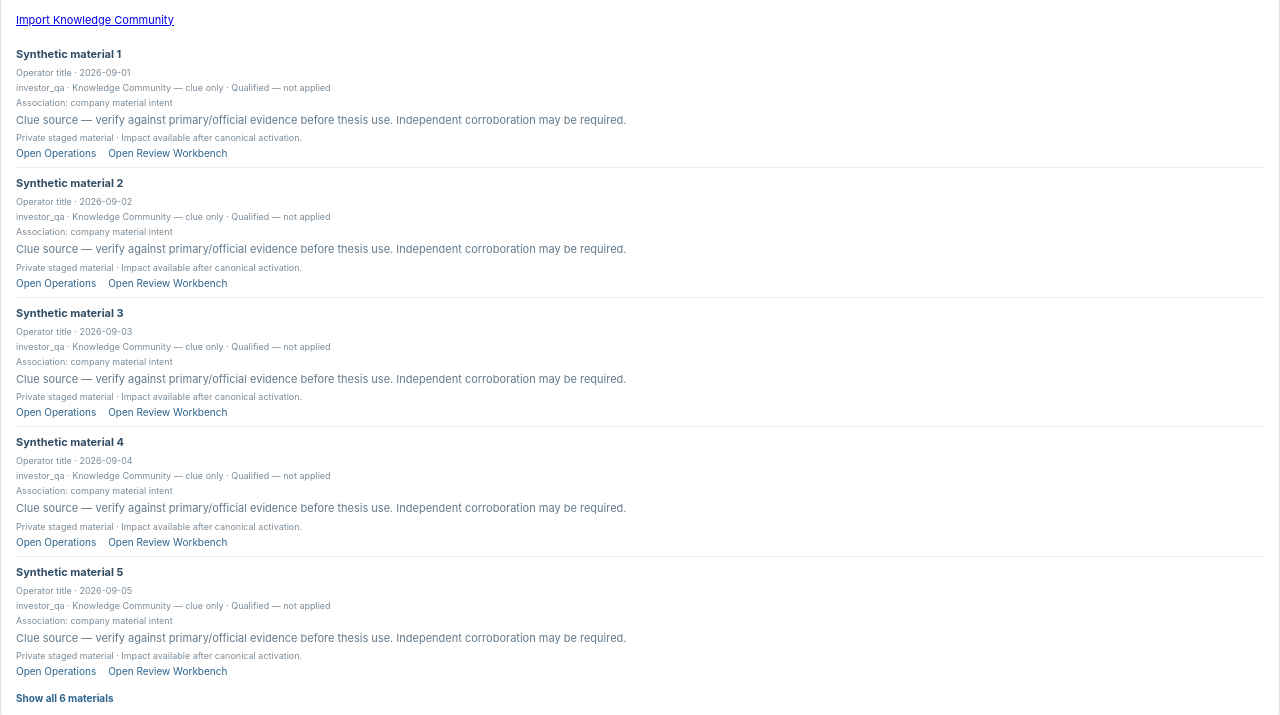
Test: Company Materials panel › shows five latest materials then expands, with private trust and review links
(page scrolled)
Expected: the text "Synthetic material 1" is shown, x1=16 y1=47 x2=121 y2=61
Expected: the text "Synthetic material 6" is not shown
Click the button "Show all 6 materials": (65, 698) x1=16 y1=692 x2=114 y2=704
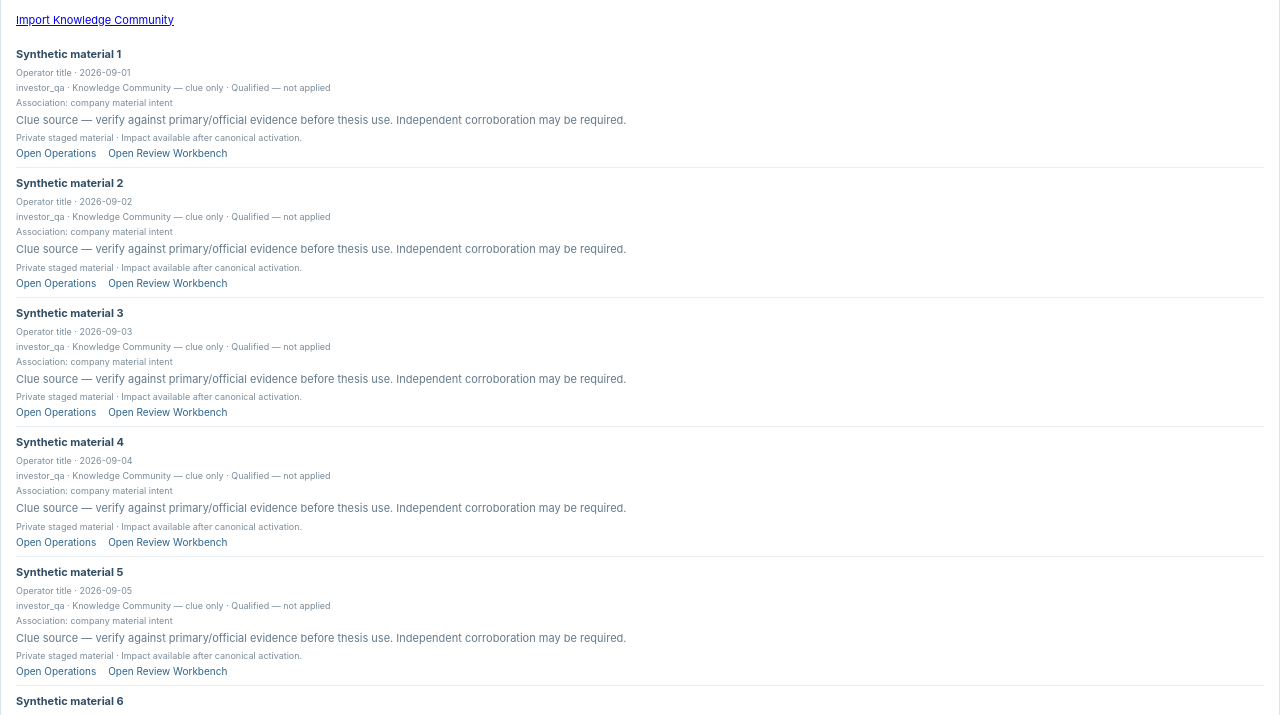
Now the text "Synthetic material 6" is shown, box x1=16 y1=694 x2=124 y2=708
Now the text "Clue source" is shown 6 times
